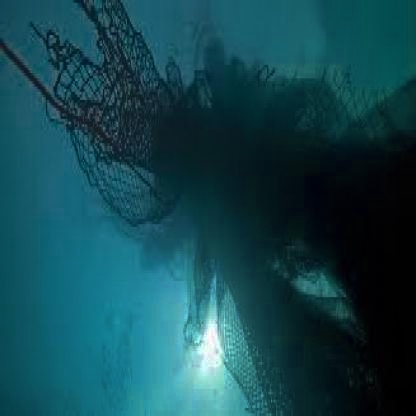net: (57, 19, 193, 235)
